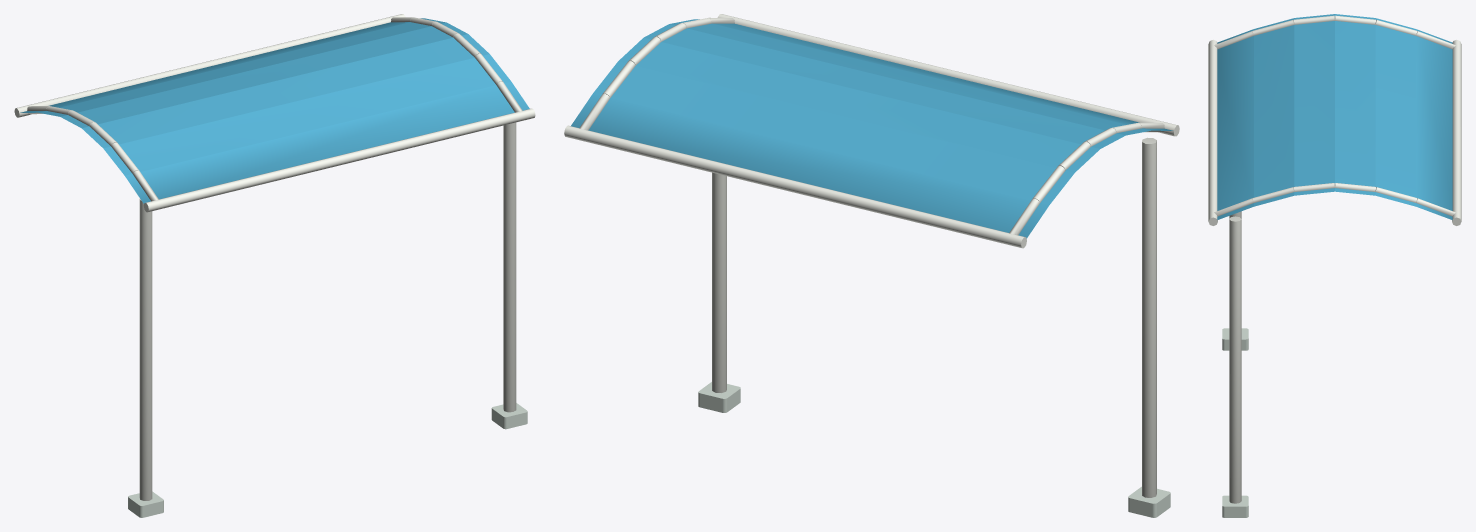
File: station-platform-canopy-low.glb
The picture shows the model from 3 angles, left to right: view 1: azimuth 30°, elevation 25°; view 2: azimuth 150°, elevation 25°; view 3: azimuth 270°, elevation 25°; orthographic projection. The views are drawn at different scales.
Visible parts, largest first — view 1: curved platform glass, canopy back column, canopy footing; view 2: curved platform glass, canopy back column, canopy footing; view 3: curved platform glass, canopy back column, canopy footing.
Boxes of the visible parts, x1,y1,x2,y2 form: curved platform glass: (20, 18, 529, 203); canopy back column: (14, 14, 535, 500); canopy footing: (128, 403, 527, 517); curved platform glass: (571, 19, 1173, 238); canopy back column: (564, 14, 1179, 497); canopy footing: (698, 382, 1170, 517); curved platform glass: (1217, 14, 1452, 219); canopy back column: (1208, 15, 1461, 503); canopy footing: (1222, 328, 1248, 517).
Bounding box in the file's own units: 3.05 × 2.63 × 1.83.
